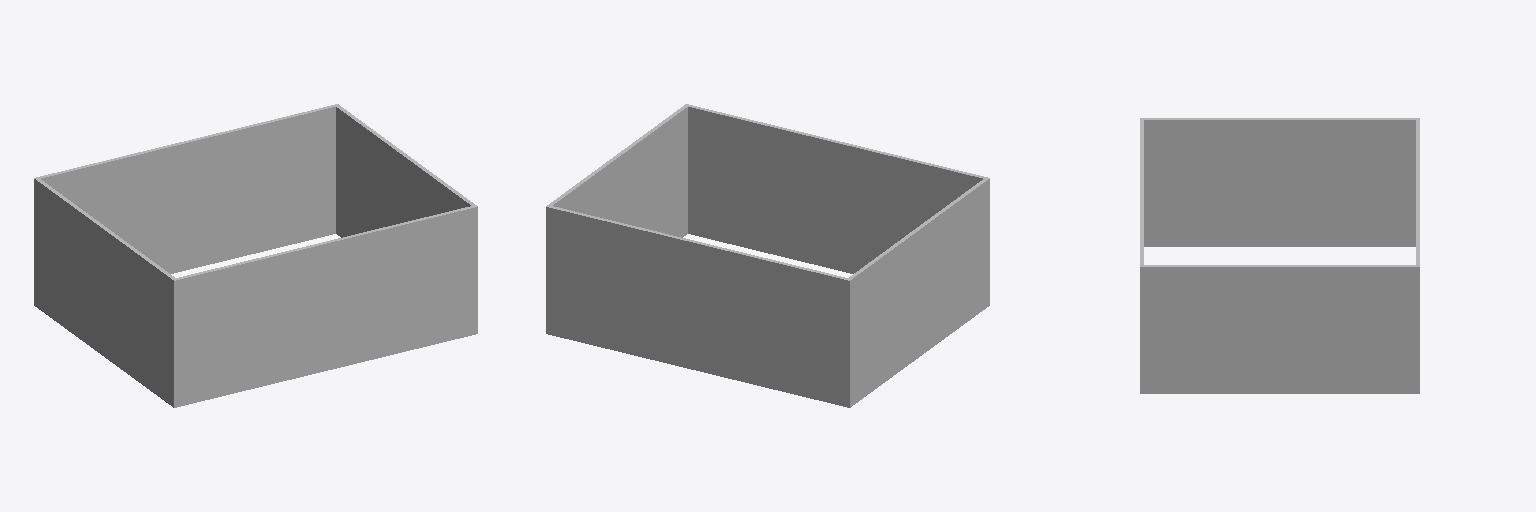
The model's file is paredesSegundoPiso.obj.
3 views of the same model, side by side, from view 1: azimuth 30°, elevation 25°; view 2: azimuth 150°, elevation 25°; view 3: azimuth 270°, elevation 25° (orthographic).
Visible parts, largest first — view 1: pCube3, pCube4, pCube2, pCube1; view 2: pCube4, pCube3, pCube2, pCube1; view 3: pCube1, pCube2, pCube4, pCube3.
Part boxes in pixels (bbox=[...]): pCube3: bbox=[172, 205, 477, 407]; pCube4: bbox=[34, 105, 335, 306]; pCube2: bbox=[36, 179, 177, 407]; pCube1: bbox=[335, 104, 477, 334]; pCube4: bbox=[546, 206, 851, 407]; pCube3: bbox=[686, 104, 989, 306]; pCube2: bbox=[846, 177, 989, 407]; pCube1: bbox=[546, 104, 688, 310]; pCube1: bbox=[1140, 265, 1419, 393]; pCube2: bbox=[1140, 118, 1419, 246]; pCube4: bbox=[1416, 118, 1419, 392]; pCube3: bbox=[1140, 120, 1143, 392].
Bounding box in the file's own units: 15 × 6 × 12.